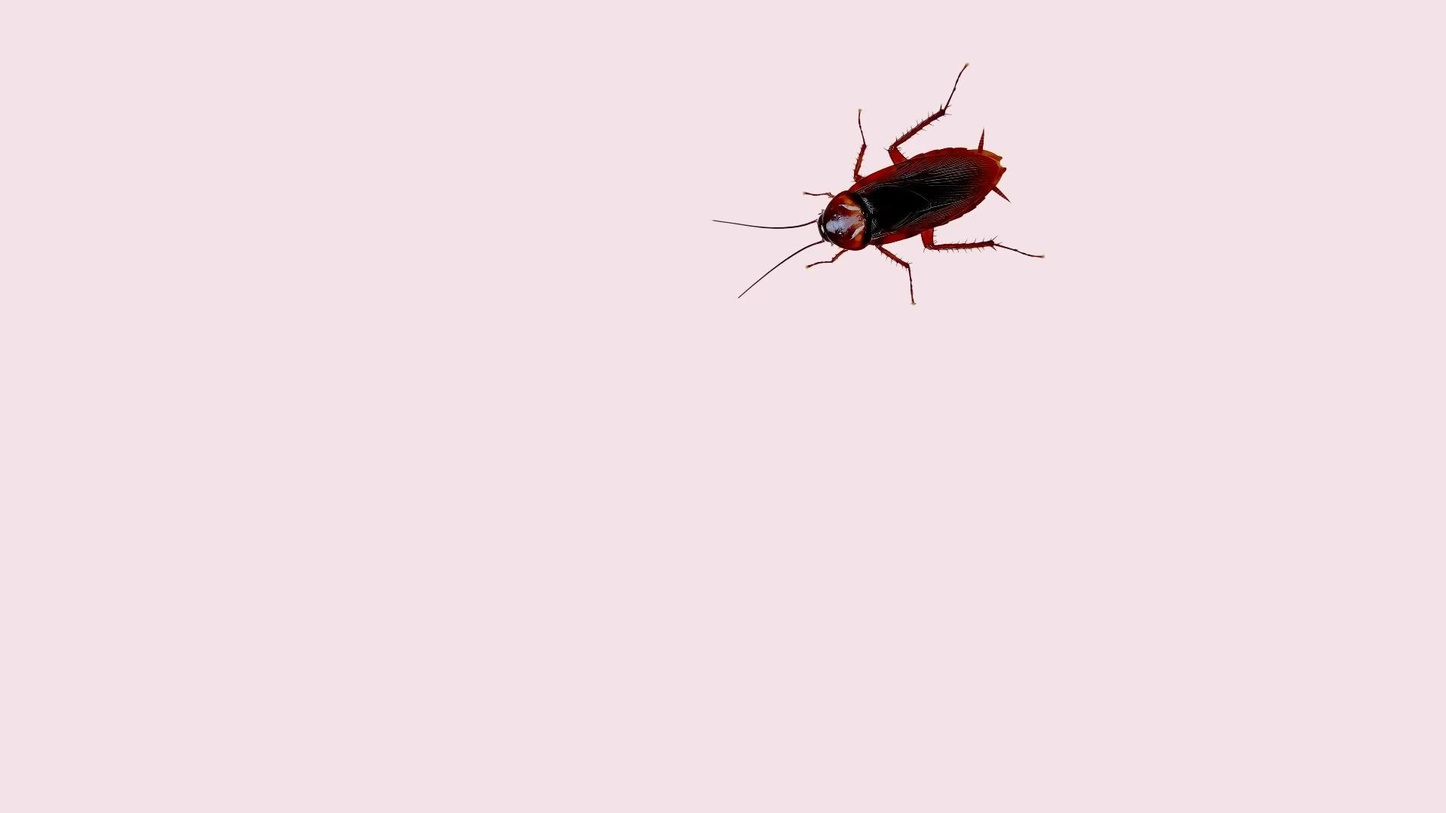cockroach: (720, 68, 1036, 307)
